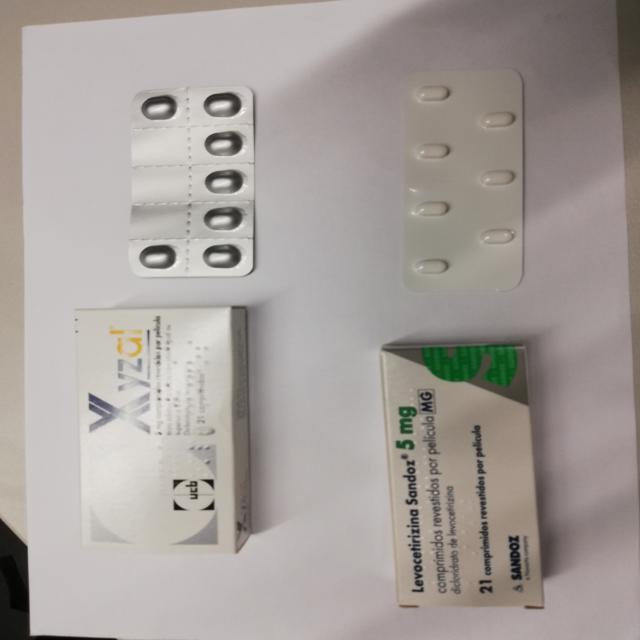Pill: (128, 239, 183, 275), (192, 206, 252, 236), (468, 103, 528, 133), (198, 87, 250, 121), (135, 92, 187, 125), (408, 136, 458, 170), (196, 128, 248, 160), (404, 253, 459, 283), (472, 218, 519, 253), (409, 192, 456, 226), (470, 165, 528, 192), (204, 166, 252, 198), (198, 245, 248, 272), (413, 79, 456, 106)
